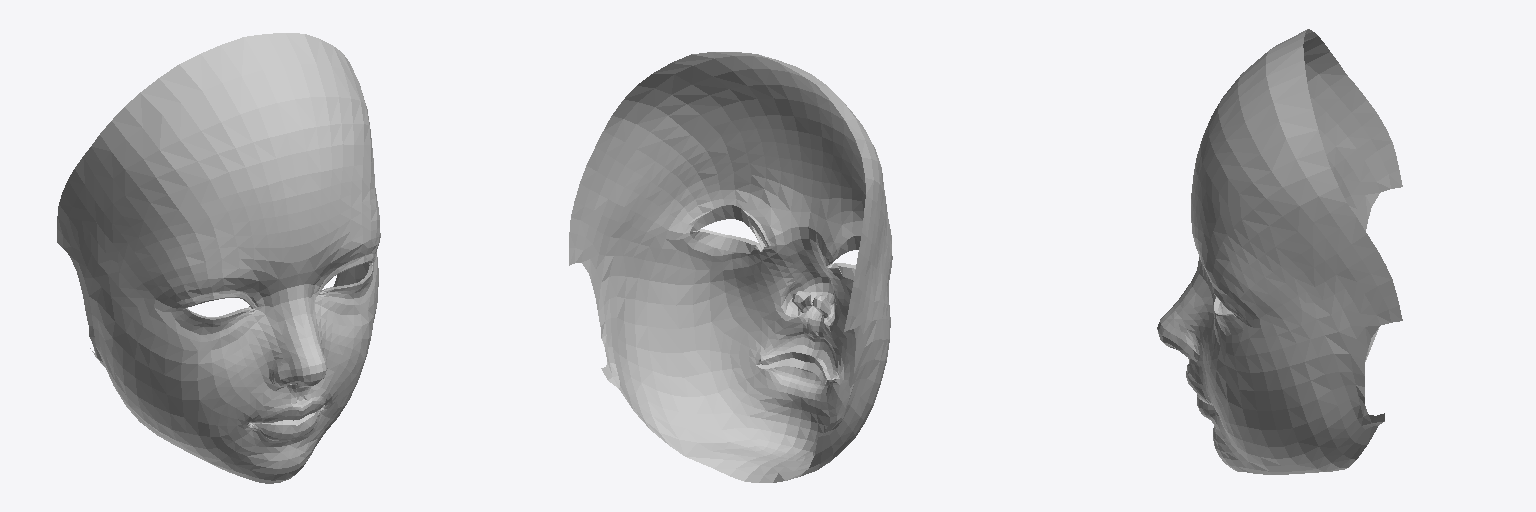
The model's file is g8face_newface.6.obj.
The picture shows the model from 3 angles: view 1: azimuth 30°, elevation 25°; view 2: azimuth 150°, elevation 25°; view 3: azimuth 270°, elevation 25°; orthographic projection.
Visible parts, largest first — view 1: g8face_newface.5; view 2: g8face_newface.5; view 3: g8face_newface.5.
Boxes of the visible parts, x1=… form: g8face_newface.5: x1=57, y1=33, x2=380, y2=483; g8face_newface.5: x1=569, y1=52, x2=892, y2=482; g8face_newface.5: x1=1157, y1=29, x2=1402, y2=474.
Size of the model in its own units: 14.56 by 20.78 by 10.99.